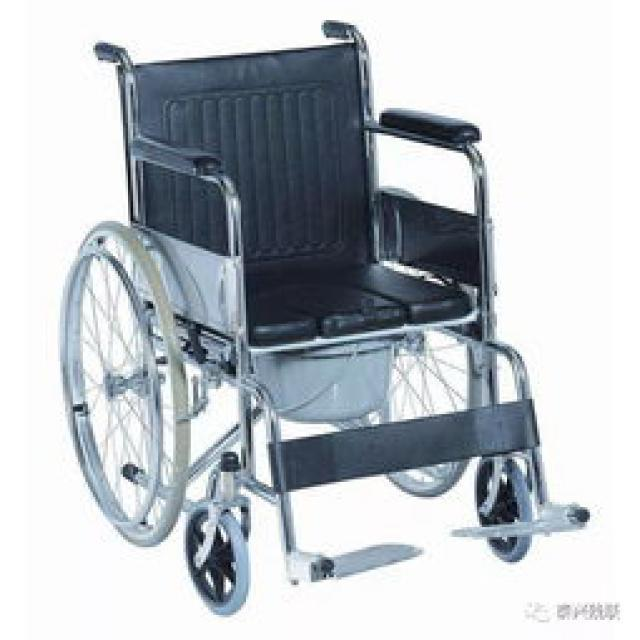wheelchair: (58, 10, 595, 600)
